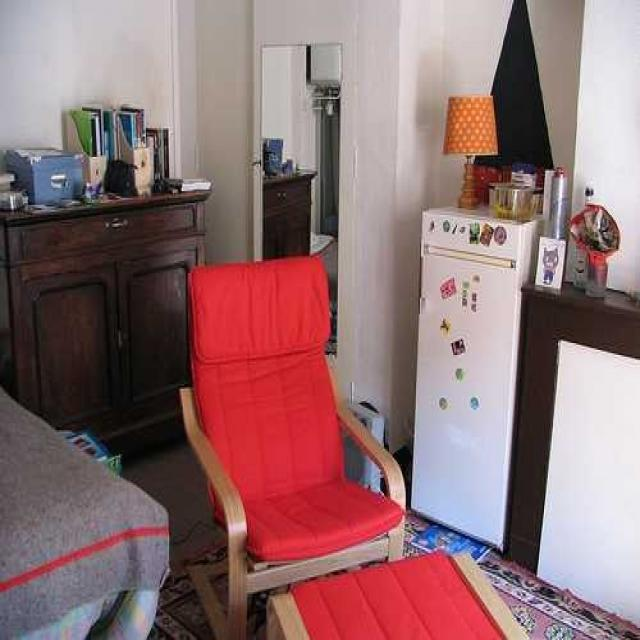refrigerator: (415, 193, 544, 555)
